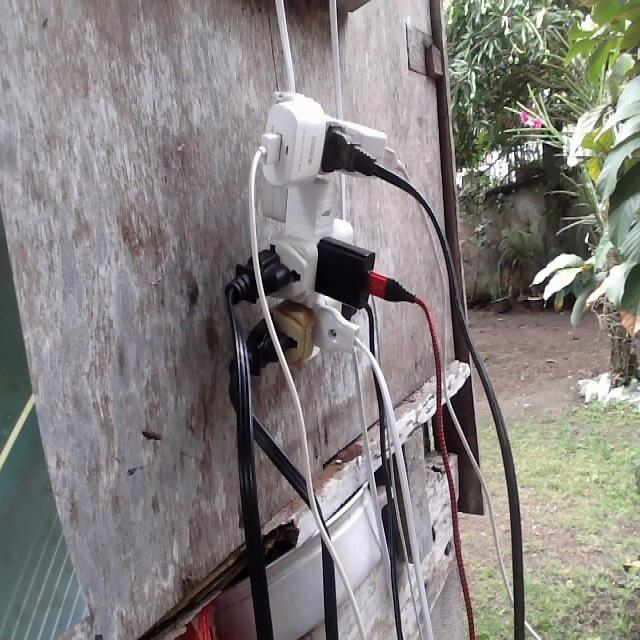-: (228, 84, 390, 373)
